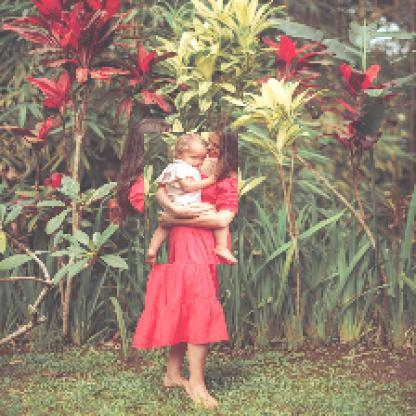child: (145, 133, 240, 266)
